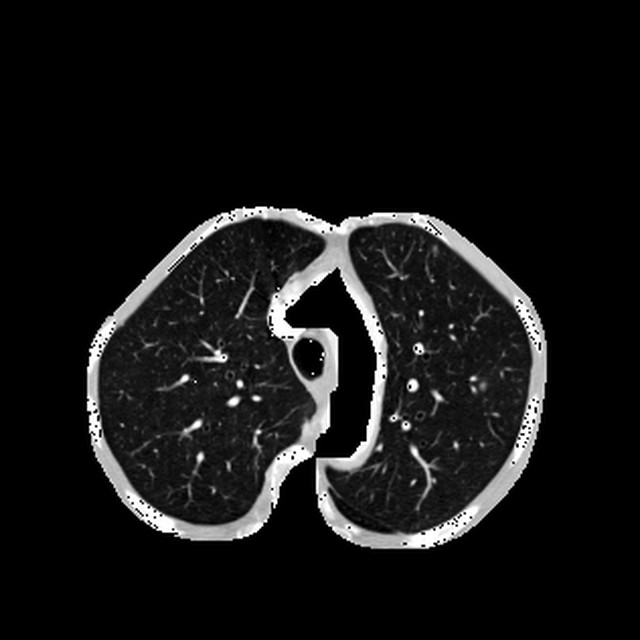PN: (478, 381, 486, 389)
